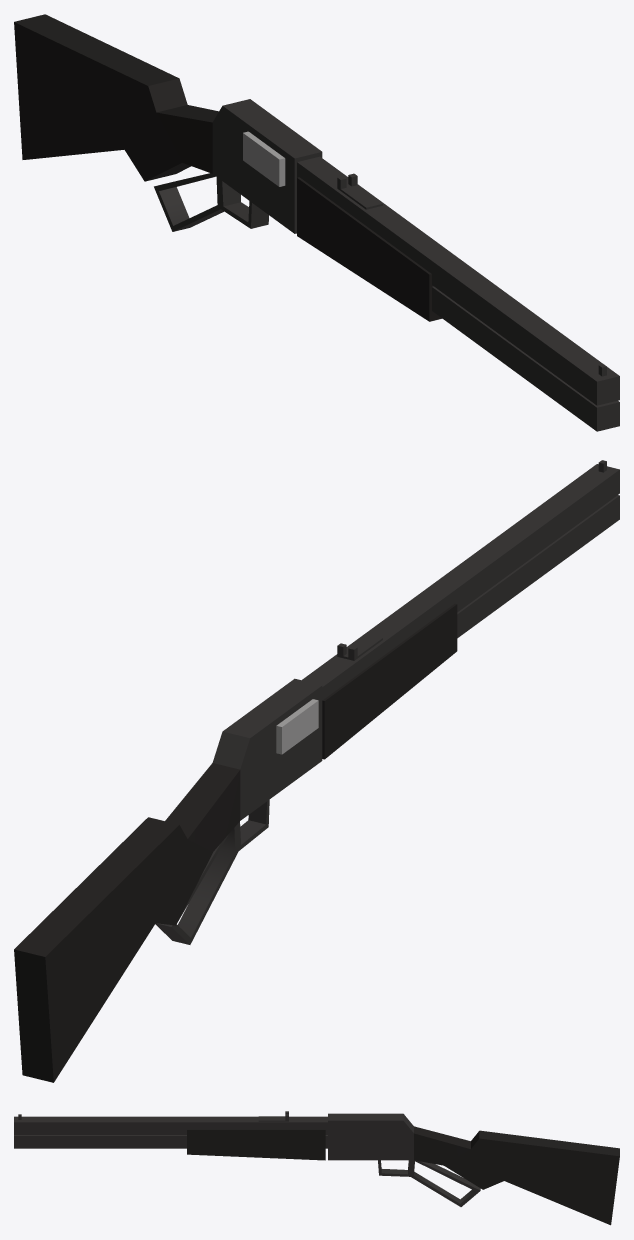
Rendered from LeverActionRifle.FBX.
3 views of the same model, one above another, from view 1: azimuth 30°, elevation 25°; view 2: azimuth 150°, elevation 25°; view 3: azimuth 270°, elevation 25° (orthographic). The views are drawn at different scales.
Parts seen in each view (by area): view 1: LeverRifle, LeverRifleLever; view 2: LeverRifle, LeverRifleLever; view 3: LeverRifle, LeverRifleLever.
Part boxes in pixels (<box>): LeverRifle: <box>14,14,619,431</box>; LeverRifleLever: <box>154,173,268,231</box>; LeverRifle: <box>14,460,619,1082</box>; LeverRifleLever: <box>155,800,269,944</box>; LeverRifle: <box>14,1111,619,1225</box>; LeverRifleLever: <box>378,1160,480,1206</box>.
Size of the model in its own units: 8.64 by 246 by 48.28.
